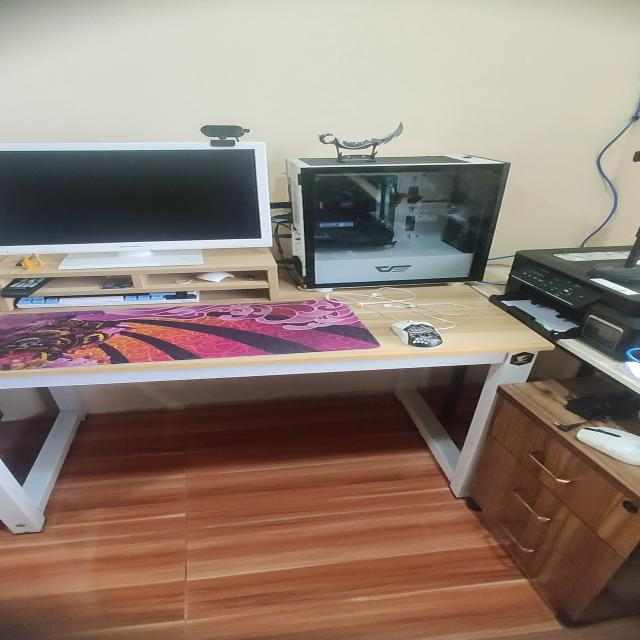table: (0, 278, 554, 537)
